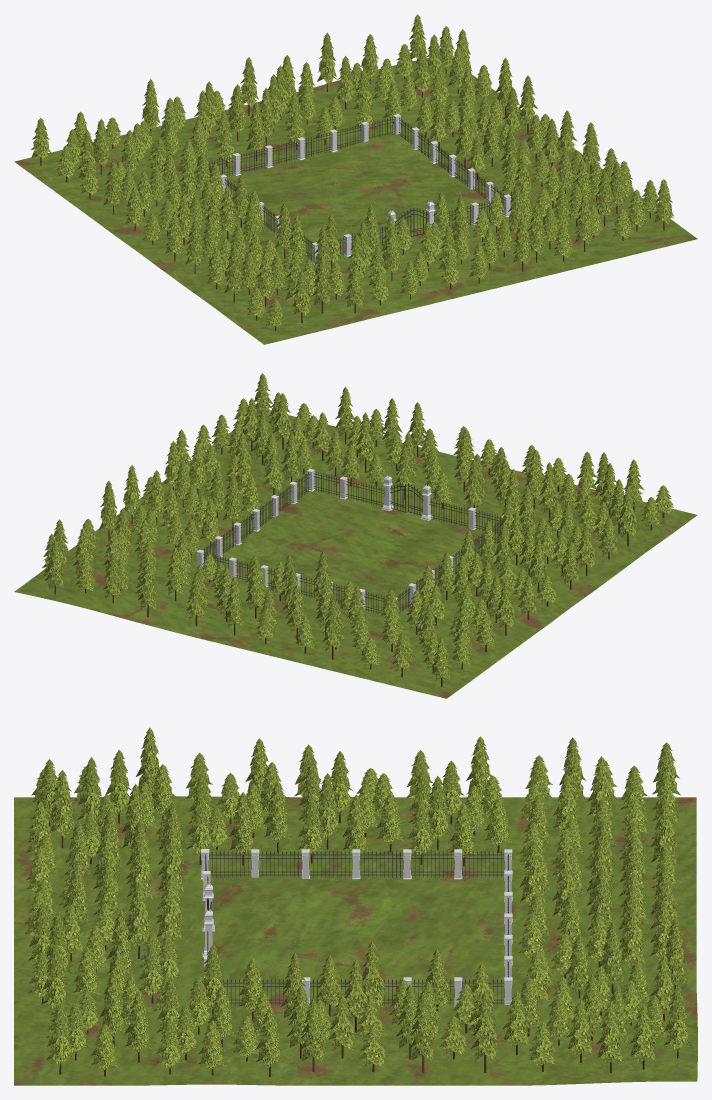
The model's file is finalnewupdatedenvironment.fbx.
3 renders of one model, top to bottom at view 1: azimuth 30°, elevation 25°; view 2: azimuth 150°, elevation 25°; view 3: azimuth 270°, elevation 25°, orthographic. The views are drawn at different scales.
Visible parts, largest first — view 1: Plane.128, Plane.009, Cube.010, Cube.001; view 2: Plane.128, Plane.009, Cube.010, Cube.001; view 3: Plane.128, Plane.009, Cube.010, Cube.001.
Part boxes in pixels (box(x1,y1,x2,y2)): Plane.128: box(31, 14, 673, 330); Plane.009: box(14, 58, 697, 344); Cube.010: box(208, 116, 504, 260); Cube.001: box(207, 114, 511, 265); Plane.128: box(42, 373, 673, 686); Plane.009: box(14, 410, 697, 698); Cube.010: box(203, 471, 501, 614); Cube.001: box(197, 468, 503, 607); Plane.128: box(25, 727, 691, 1076); Plane.009: box(14, 796, 697, 1085); Cube.010: box(205, 851, 508, 1005); Cube.001: box(201, 849, 512, 1007).
Bounding box in the file's own units: 19728 × 2755 × 19752.
